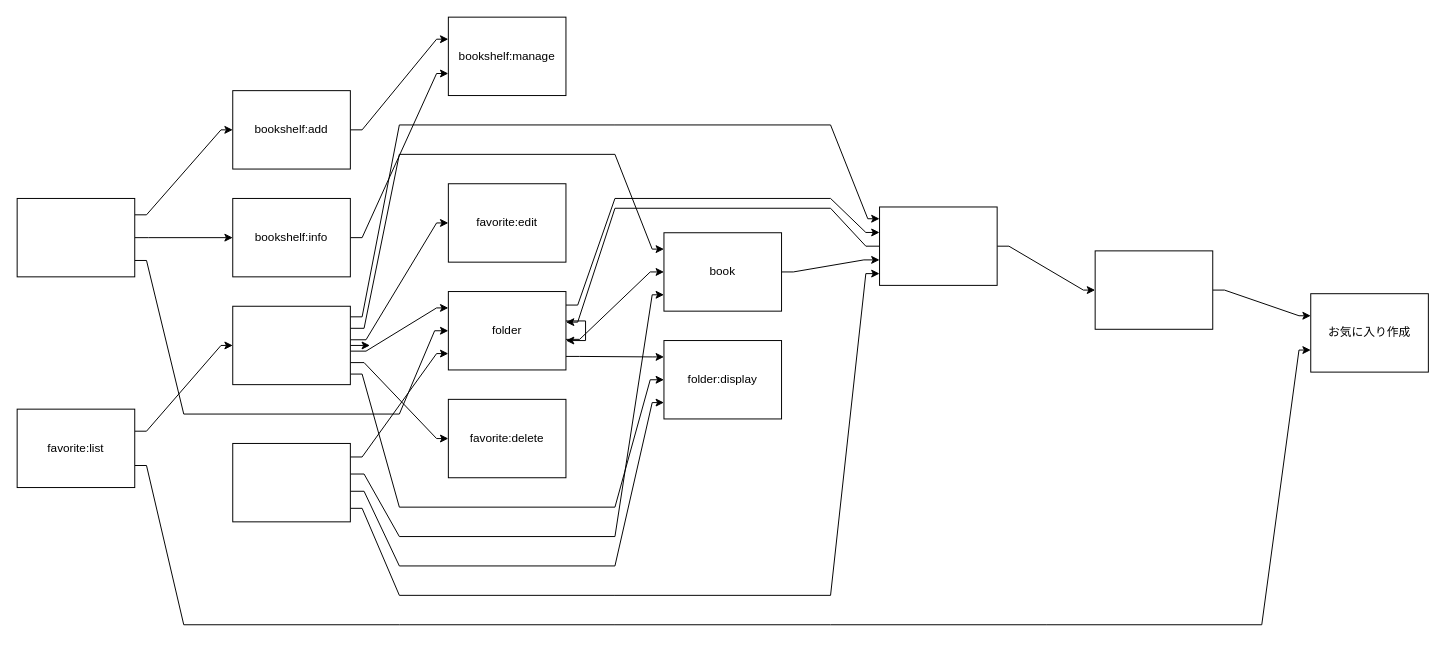
The diagram is 1446 pixels wide and 650 high, and some of its shapes have lost their labels. The shapes that lost their labels are listed below. From the top down, each one's centre as x and y in pixels, then its label:
At [75,237]: "bookshelf:list".
At [938,245]: "file:info".
At [1153,289]: "お気に入りに追加".
At [291,345]: "favorite".
At [291,482]: "readlater".
